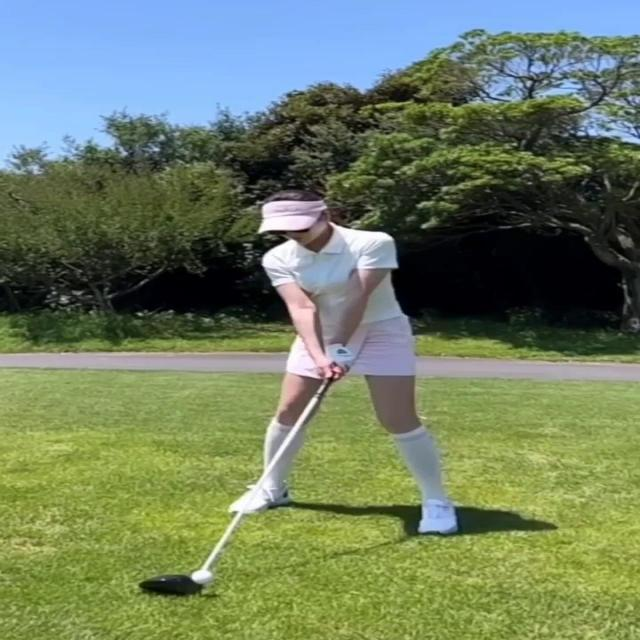golf ball: (185, 570, 214, 583)
golf club-handle: (141, 367, 333, 595)
golf club-head: (139, 576, 193, 592)
